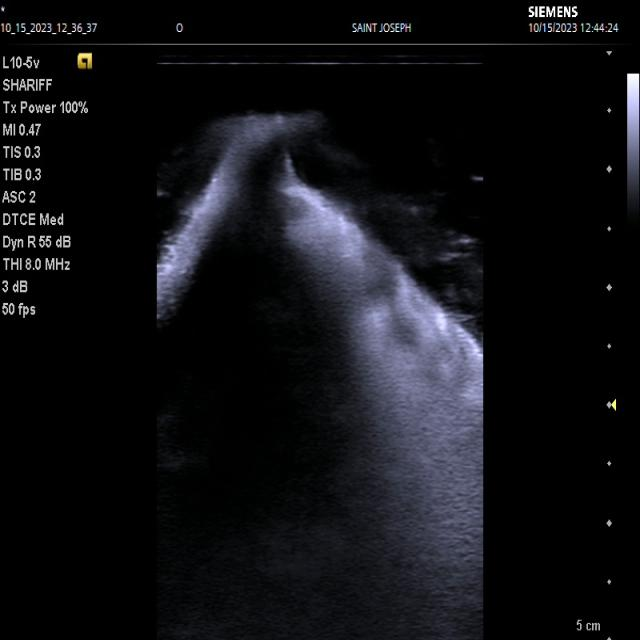tissue: (157, 115, 483, 640)
